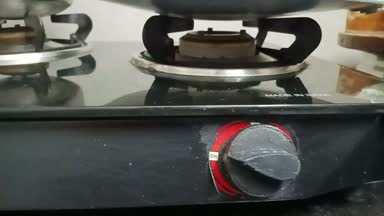noflame_gason: (133, 11, 350, 204)
